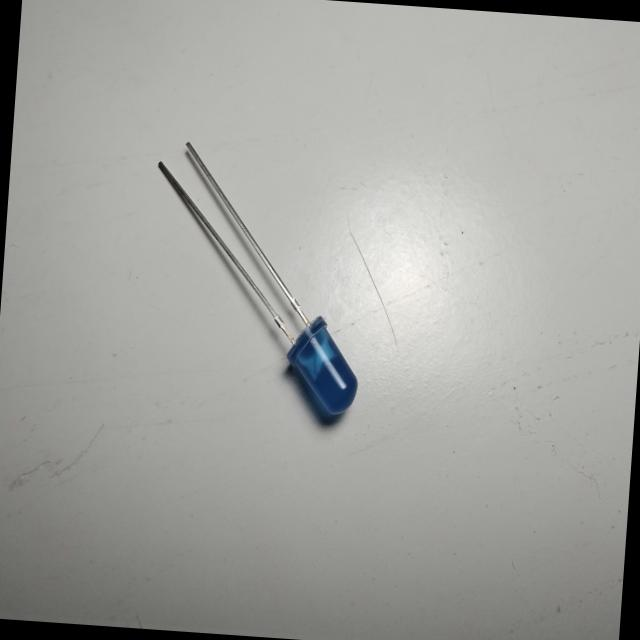blue_led: (280, 312, 362, 425)
